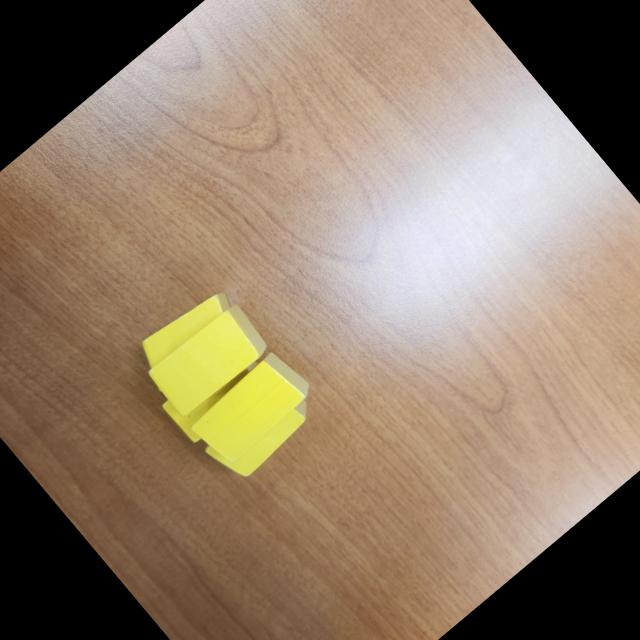yellow: (184, 342, 320, 470), (142, 298, 274, 422), (200, 376, 322, 489), (158, 336, 276, 446), (127, 278, 235, 376)
